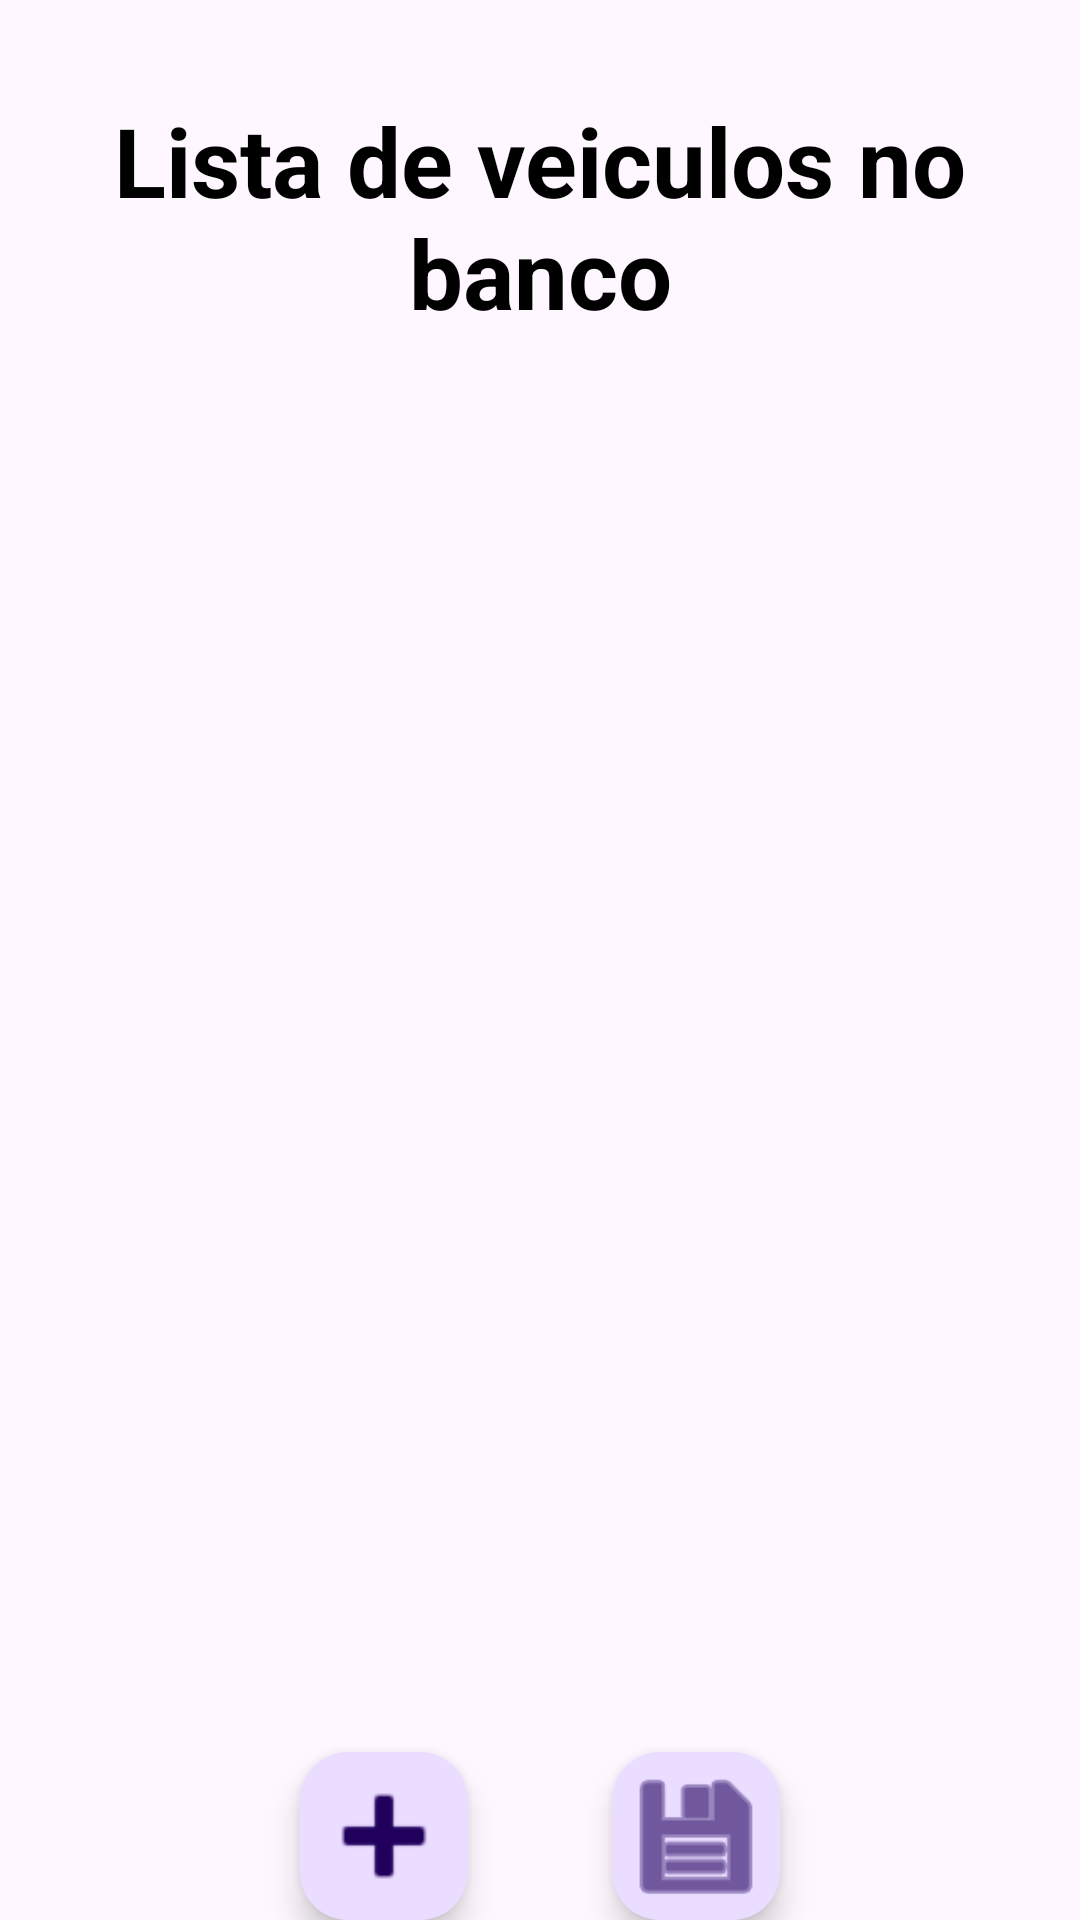

Screen size 1080x1920. Icon name, then its center in pixels as [x,y]:
add: [384,1836]
save: [696,1836]
